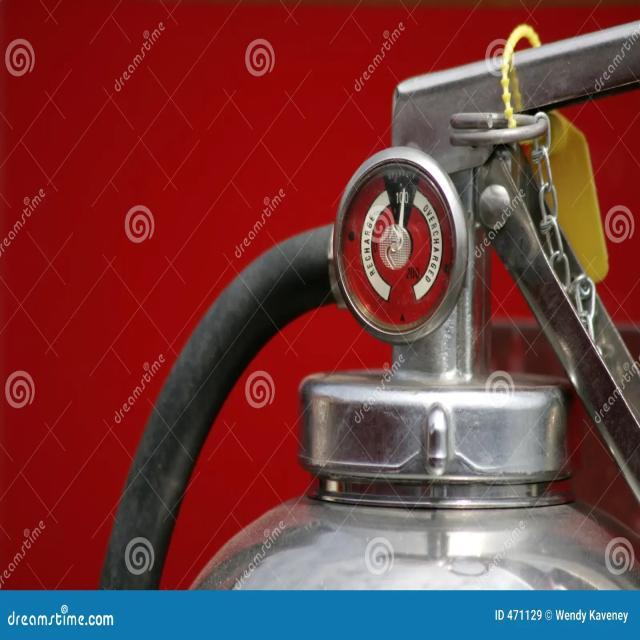pressure gauge: (332, 147, 468, 342)
